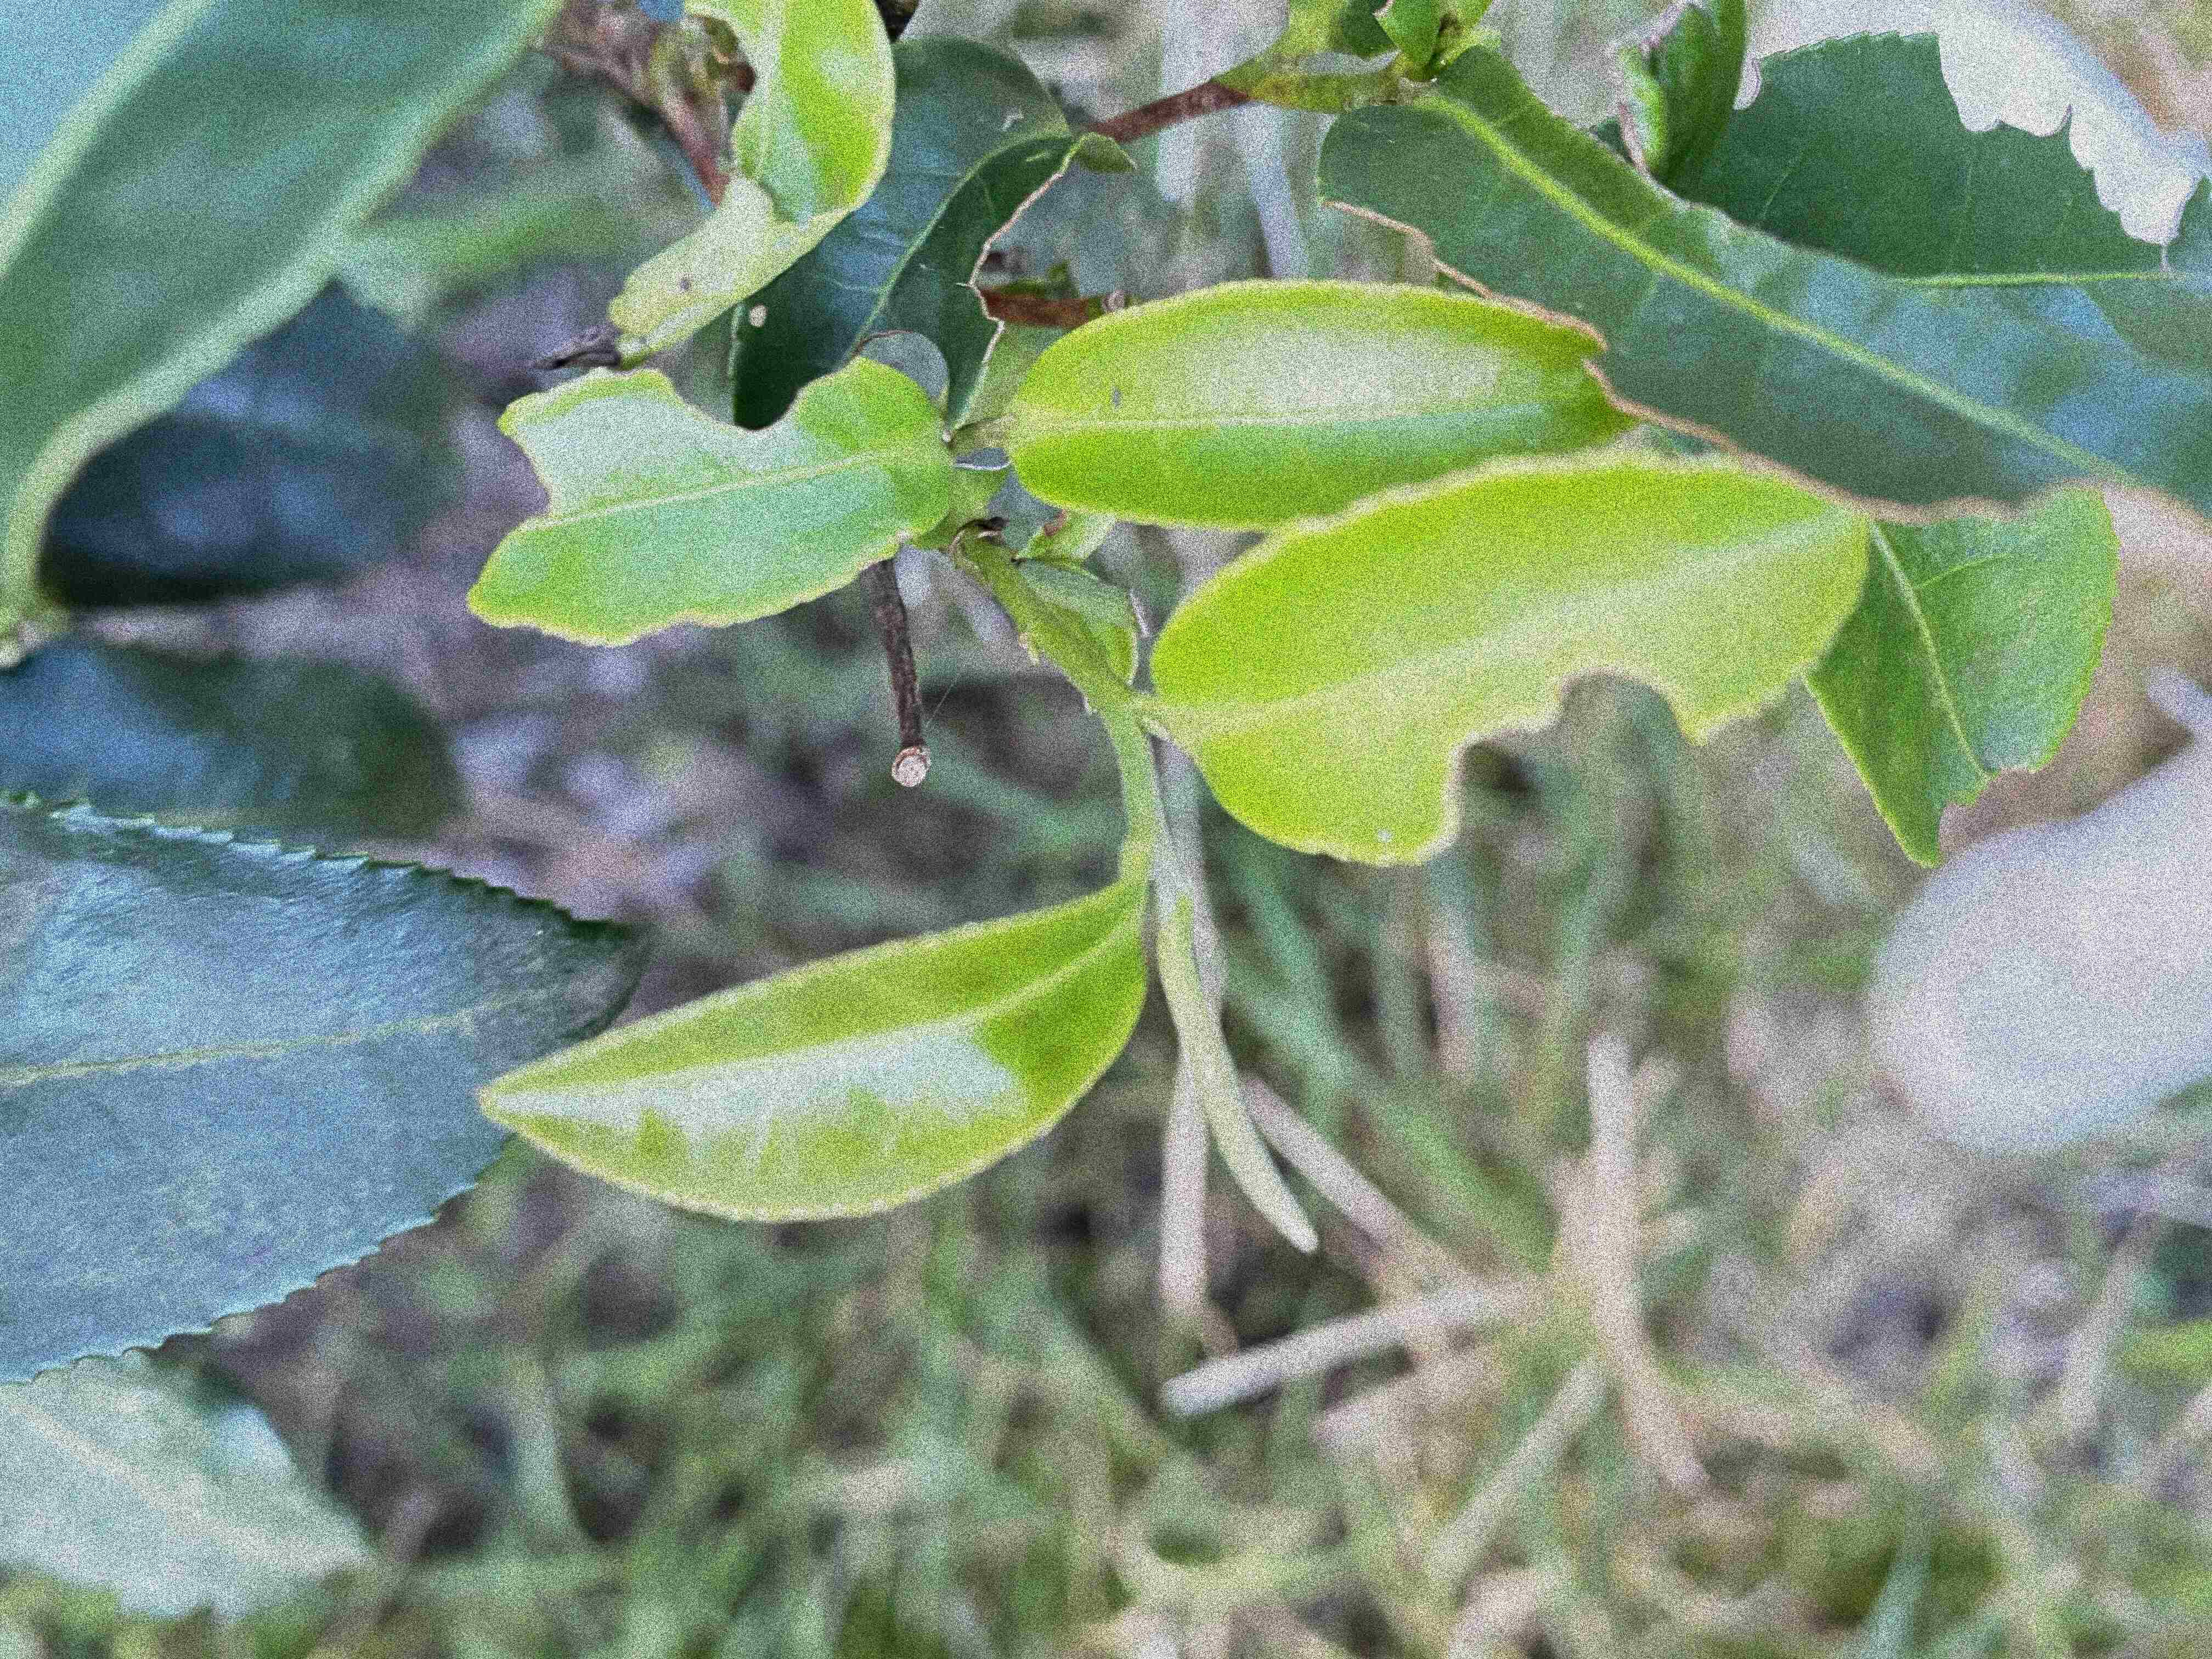chihuo_high: (1313, 56, 2210, 528), (1150, 444, 1874, 868), (728, 33, 1144, 427), (465, 354, 960, 652)
chihuo_low: (996, 282, 1642, 528), (1799, 491, 2123, 873)
healthy: (2, 788, 664, 1389), (474, 863, 1160, 1230)
tanju_high: (529, 9, 897, 382)
